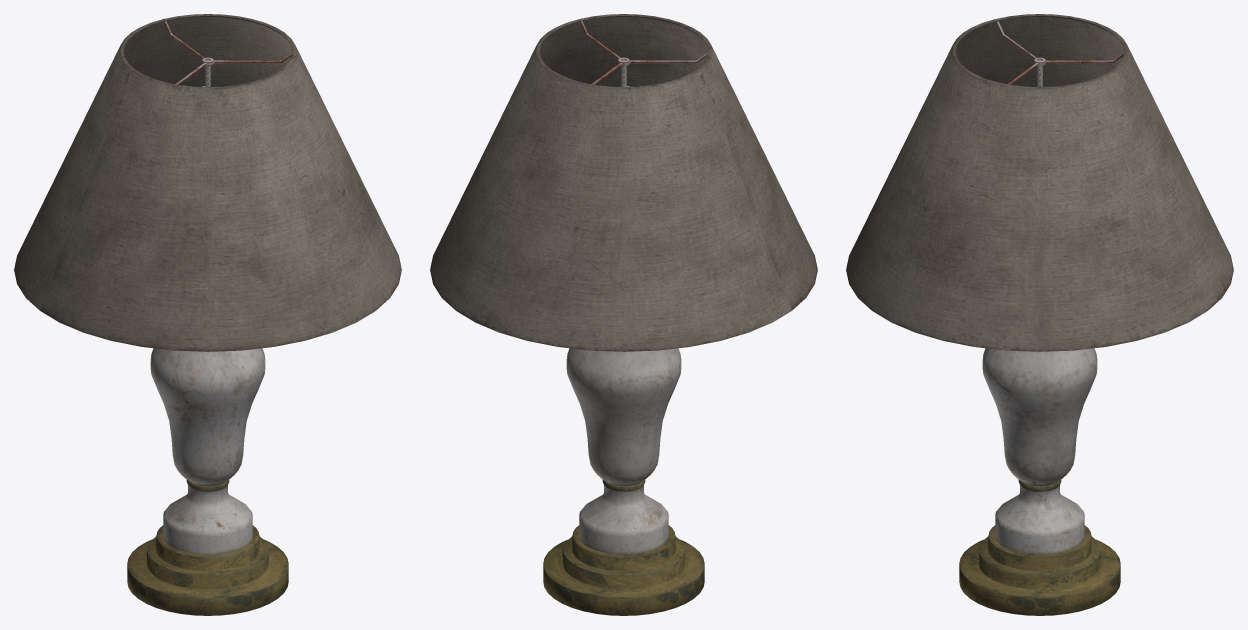
File: table-lamp.glb
3 renders of one model, left to right at view 1: azimuth 30°, elevation 25°; view 2: azimuth 150°, elevation 25°; view 3: azimuth 270°, elevation 25°, orthographic.
Parts seen in each view (by area): view 1: Cylinder.009_low; view 2: Cylinder.009_low; view 3: Cylinder.009_low.
Part boxes in pixels (x1,y1,x2,y2): Cylinder.009_low: [14, 14, 401, 615]; Cylinder.009_low: [430, 14, 817, 615]; Cylinder.009_low: [846, 14, 1233, 615].
Size of the model in its own units: 0.4924 by 0.7444 by 0.4924.
1 material, 1 textured.
